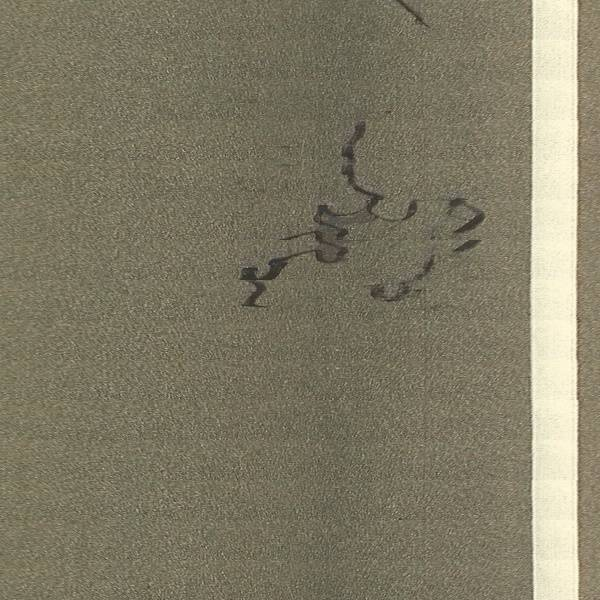road_damage: (228, 108, 494, 340)
